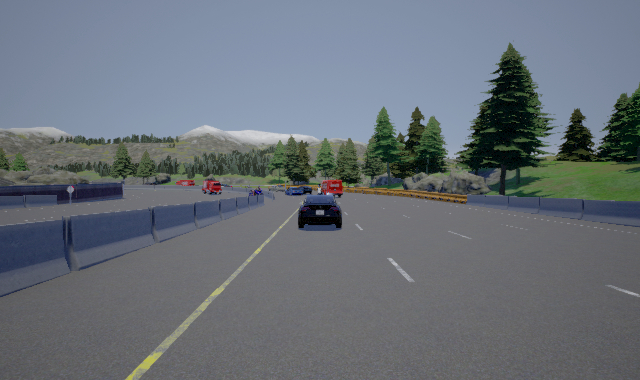vehicle: (298, 194, 342, 228), (322, 178, 344, 197), (202, 181, 224, 196), (284, 185, 312, 194)
